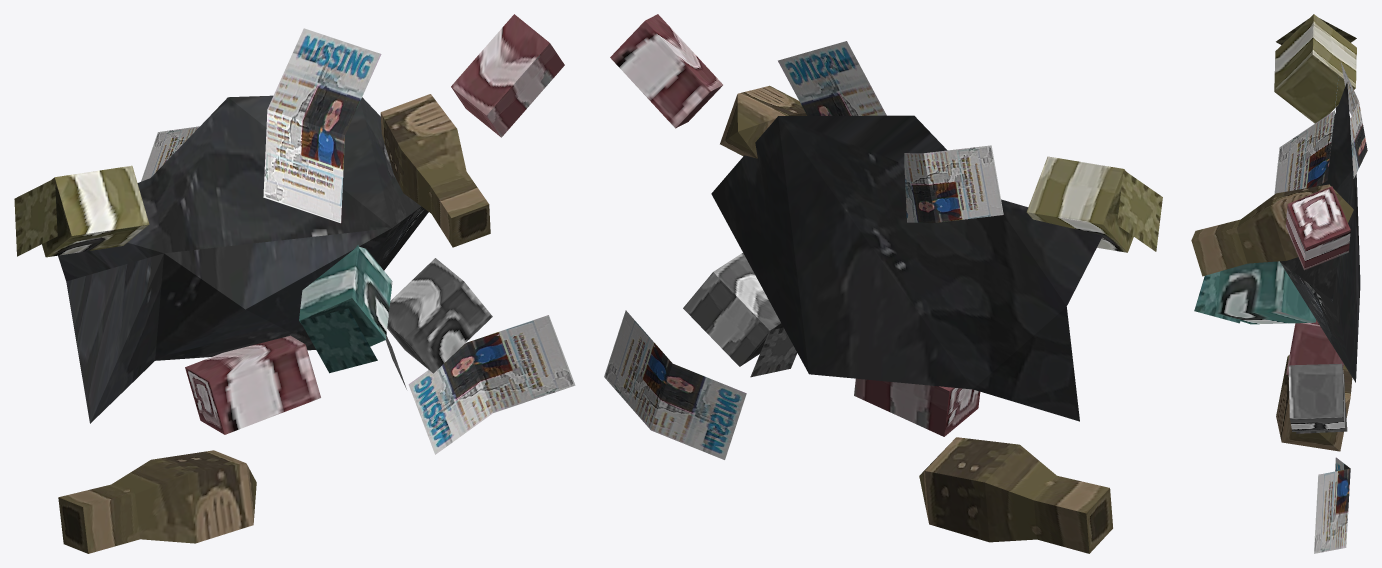
File: prop_trash.glb
3 renders of one model, left to right at view 1: azimuth 30°, elevation 25°; view 2: azimuth 150°, elevation 25°; view 3: azimuth 270°, elevation 25°, orthographic. The views are drawn at different scales.
Parts seen in each view (by area): view 1: prop_thrash; view 2: prop_thrash; view 3: prop_thrash.
Boxes of the visible parts, <box> form: prop_thrash: <box>14,14,575,553</box>; prop_thrash: <box>604,14,1162,553</box>; prop_thrash: <box>1191,14,1367,553</box>.
Size of the model in its own units: 140 by 112 by 41.88.
Materials: 1 (1 with a texture image).
